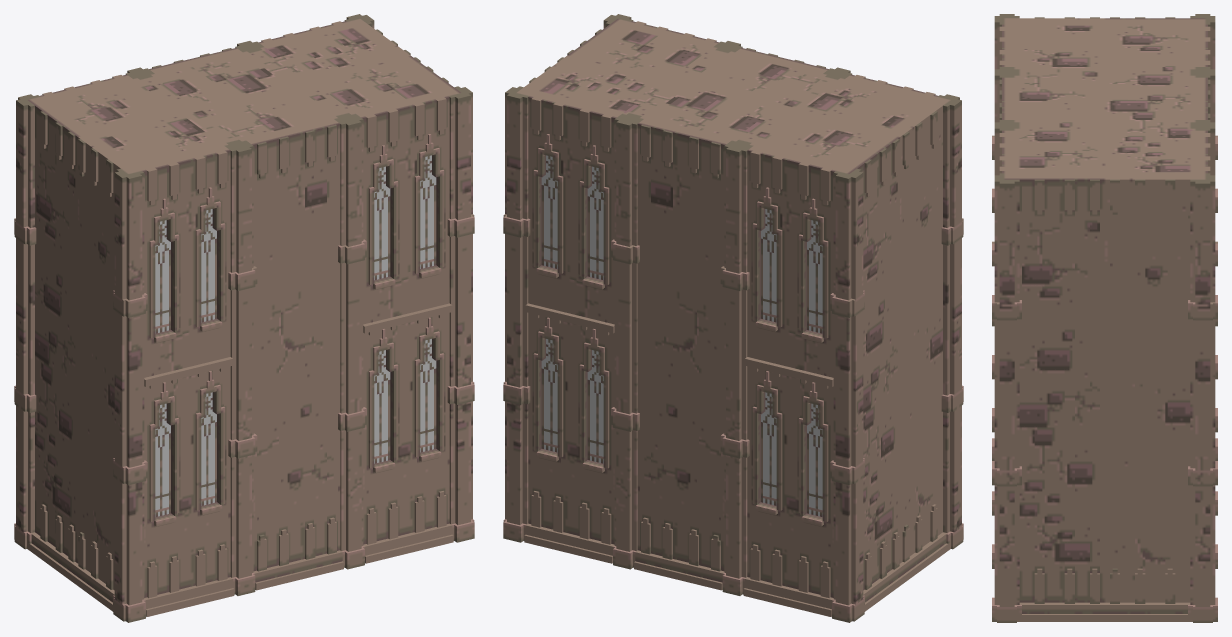
Rendered from Building_Block-2.fbx.
3 renders of one model, left to right at view 1: azimuth 30°, elevation 25°; view 2: azimuth 150°, elevation 25°; view 3: azimuth 270°, elevation 25°, orthographic.
Visible parts, largest first — view 1: Building_Block-2; view 2: Building_Block-2; view 3: Building_Block-2.
Boxes of the visible parts, x1,y1,x2,y2 form: Building_Block-2: [14, 14, 474, 622]; Building_Block-2: [503, 14, 963, 622]; Building_Block-2: [992, 14, 1217, 622].
Size of the model in its own units: 800 by 965 by 450.
